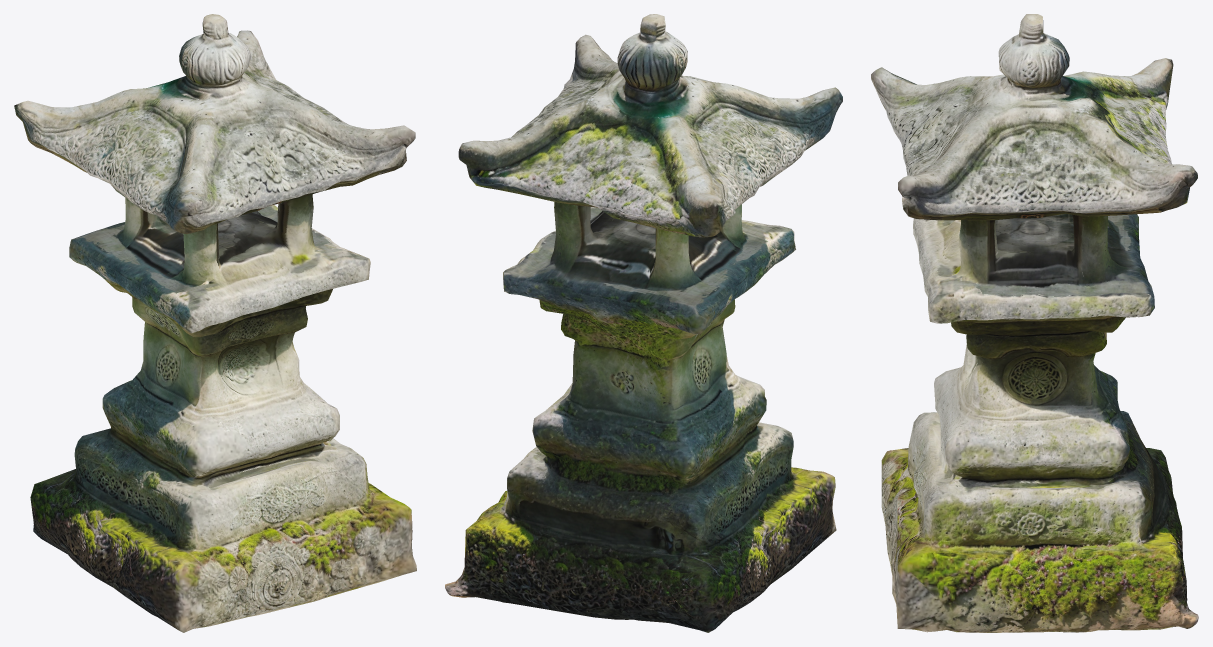
The model's file is free_low-poly_japanese_stone_lantern_ishi-doro.glb.
3 renders of one model, left to right at view 1: azimuth 30°, elevation 25°; view 2: azimuth 150°, elevation 25°; view 3: azimuth 270°, elevation 25°, orthographic.
Visible parts, largest first — view 1: Mesh_0_Material_0_0; view 2: Mesh_0_Material_0_0; view 3: Mesh_0_Material_0_0.
Part boxes in pixels (x1,y1,x2,y2): Mesh_0_Material_0_0: (14,14,416,632); Mesh_0_Material_0_0: (445,14,842,632); Mesh_0_Material_0_0: (871,14,1198,632).
Size of the model in its own units: 0.6096 by 1.2 by 0.6348.
Materials: 1 (1 with a texture image).
